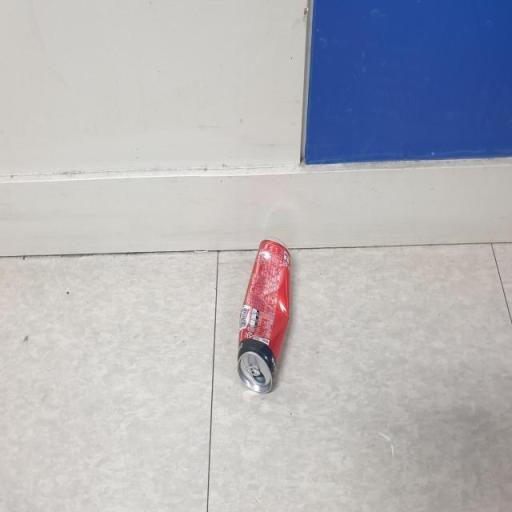metal: (232, 228, 298, 400)
